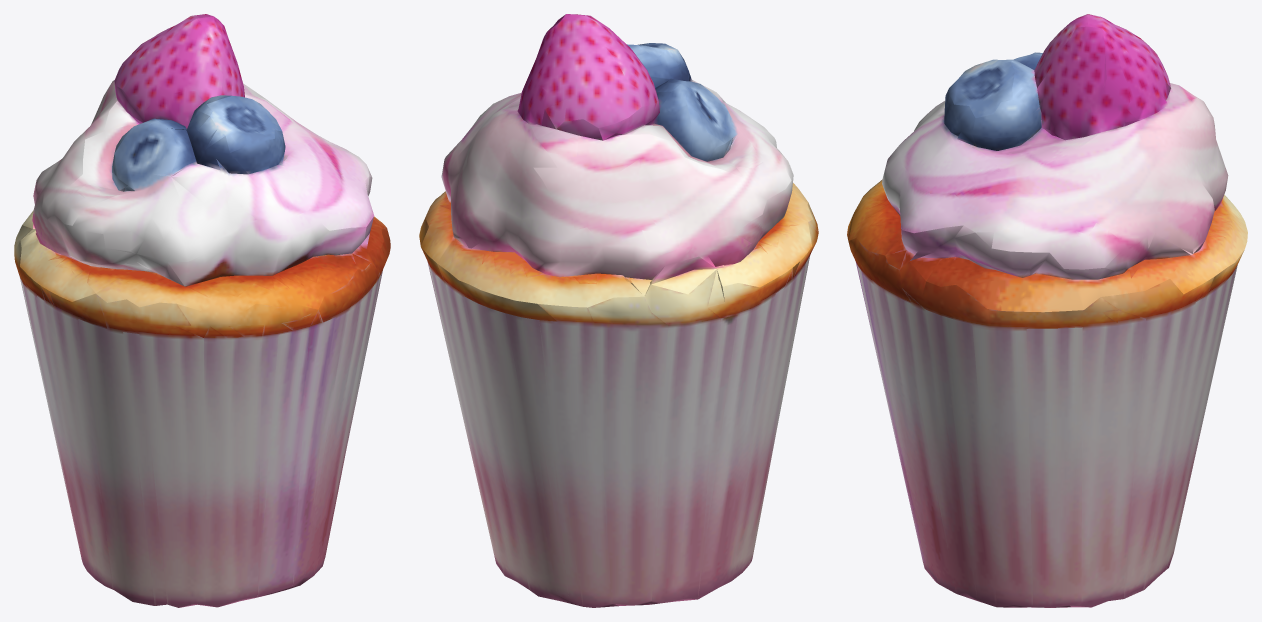
Rendered from cupcake.glb.
The picture shows the model from 3 angles, left to right: view 1: azimuth 30°, elevation 25°; view 2: azimuth 150°, elevation 25°; view 3: azimuth 270°, elevation 25°; orthographic projection. The views are drawn at different scales.
Parts seen in each view (by area): view 1: mesh; view 2: mesh; view 3: mesh.
Part boxes in pixels (box(x1,y1,x2,y2)): mesh: box(14, 14, 390, 607); mesh: box(419, 14, 818, 607); mesh: box(847, 14, 1247, 607).
Bounding box in the file's own units: 0.618 × 0.96 × 0.6322.
1 material, 1 textured.
